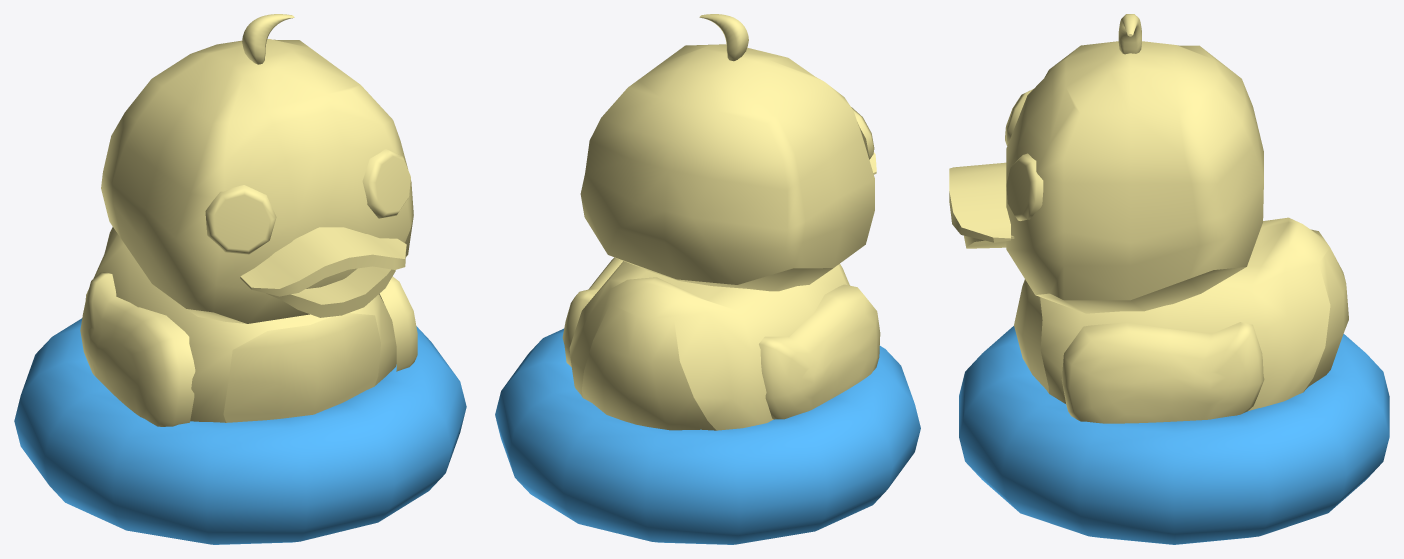
Rendered from Duck.fbx.
3 views of the same model, side by side, from view 1: azimuth 30°, elevation 25°; view 2: azimuth 150°, elevation 25°; view 3: azimuth 270°, elevation 25° (orthographic). The views are drawn at different scales.
Visible parts, largest first — view 1: Floatie, Head, Body, Wings, Beak, Eyes, Ahoge; view 2: Head, Floatie, Body, Wings, Ahoge; view 3: Head, Floatie, Body, Wings, Beak, Eyes, Ahoge.
Part boxes in pixels (left/top/right/bottom): Floatie: left=14, top=318, right=466, bottom=544; Head: left=101, top=39, right=413, bottom=323; Body: left=85, top=227, right=396, bottom=422; Wings: left=80, top=272, right=417, bottom=426; Beak: left=240, top=227, right=406, bottom=317; Eyes: left=205, top=149, right=410, bottom=254; Ahoge: left=242, top=14, right=294, bottom=64; Head: left=580, top=44, right=874, bottom=291; Floatie: left=495, top=328, right=920, bottom=544; Body: left=569, top=261, right=849, bottom=430; Wings: left=562, top=257, right=880, bottom=419; Ahoge: left=699, top=14, right=748, bottom=61; Head: left=1006, top=41, right=1263, bottom=313; Floatie: left=959, top=326, right=1389, bottom=544; Body: left=1014, top=217, right=1348, bottom=410; Wings: left=1061, top=322, right=1264, bottom=423; Beak: left=949, top=162, right=1014, bottom=248; Eyes: left=1005, top=89, right=1043, bottom=220; Ahoge: left=1118, top=14, right=1141, bottom=54.
Bounding box in the file's own units: 7.17 × 8.2 × 7.15.
